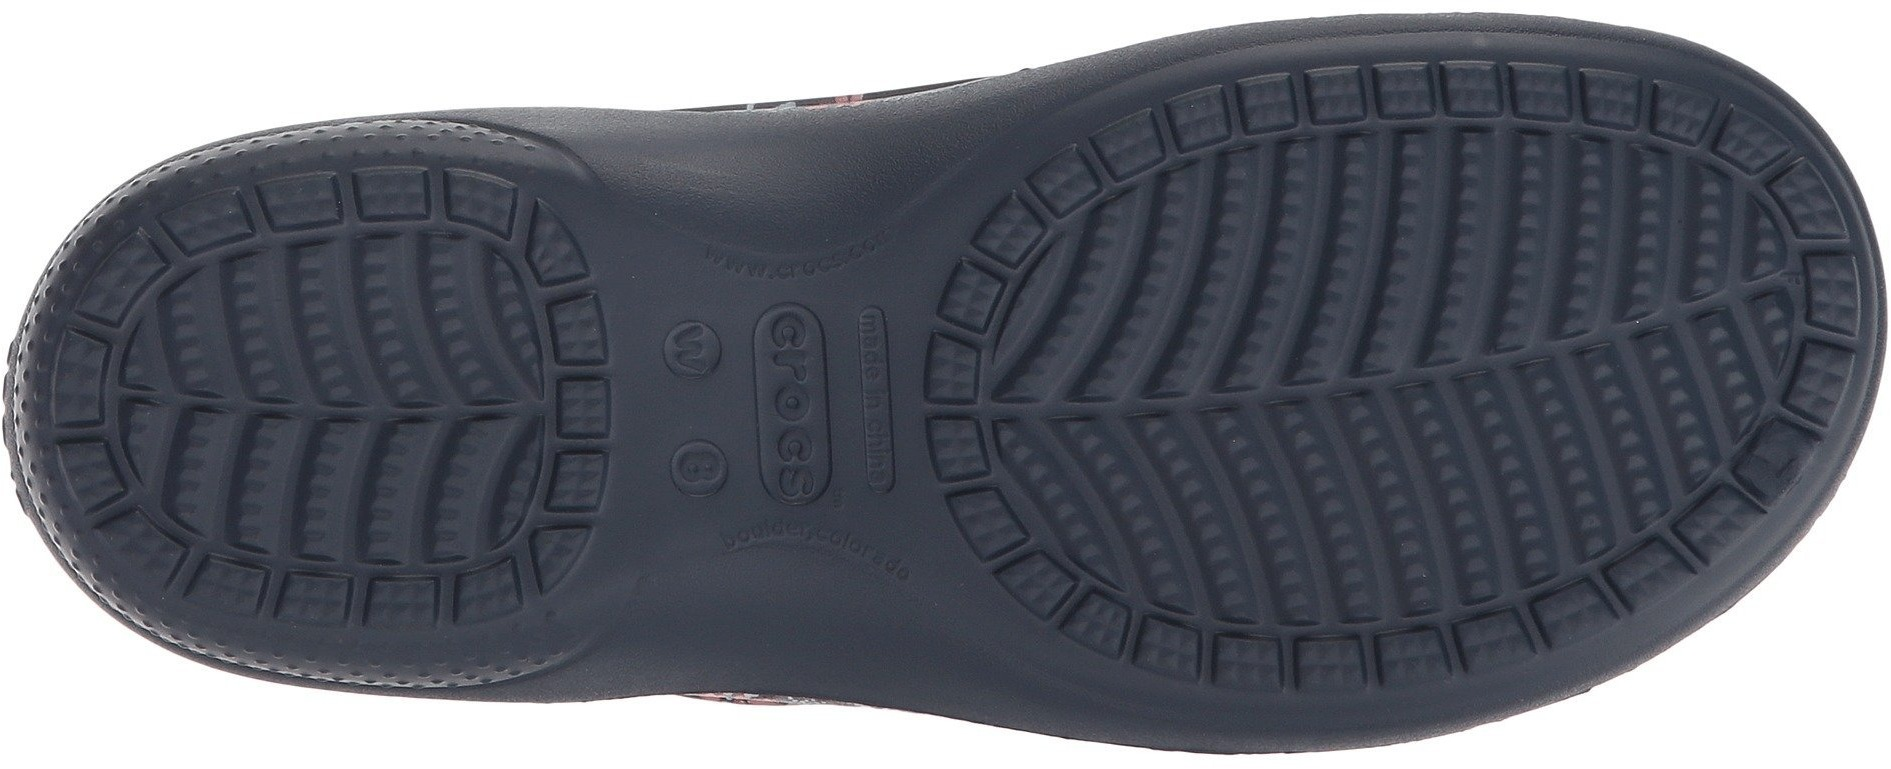text: (740, 316, 835, 417), (759, 430, 842, 497)
